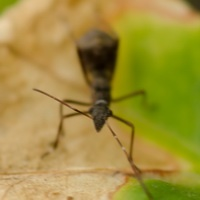insect: (33, 29, 153, 199)
